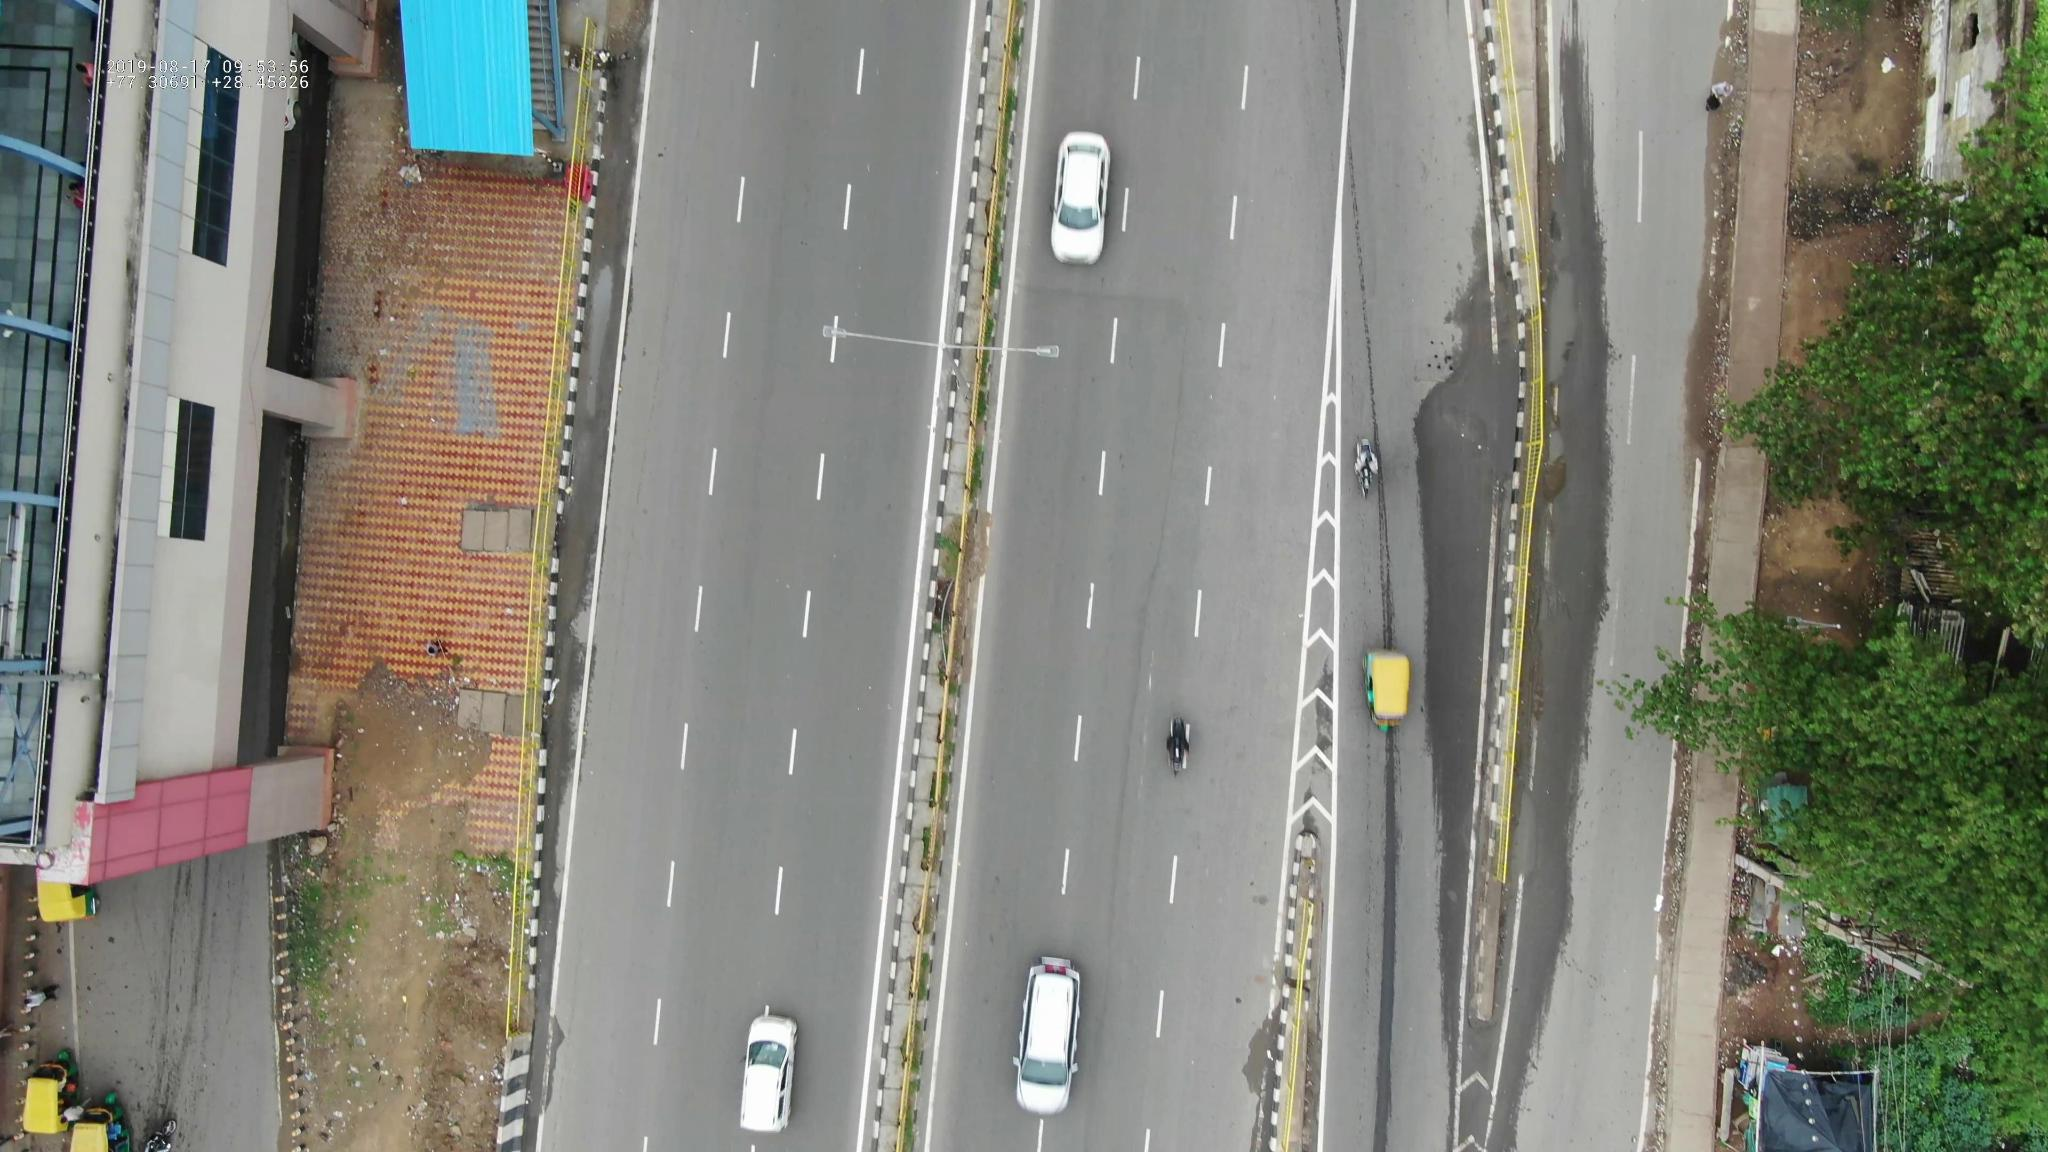Muddy_road: (1701, 108, 1746, 288), (1684, 314, 1734, 447)
